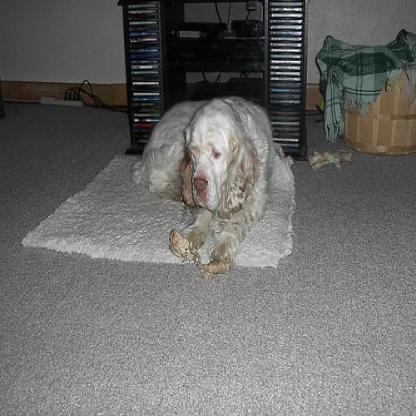clumber: (129, 90, 277, 275)
